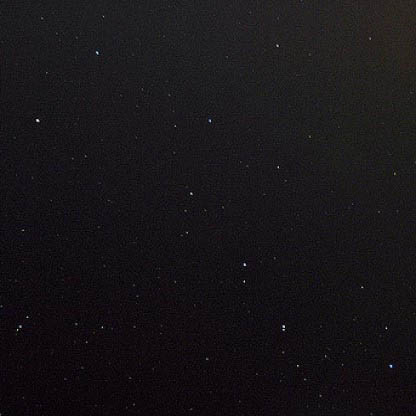Ursa Major: (269, 313, 297, 341), (27, 109, 52, 135), (199, 109, 221, 133), (182, 184, 203, 205), (237, 249, 255, 273), (381, 354, 400, 375), (86, 47, 106, 66)
